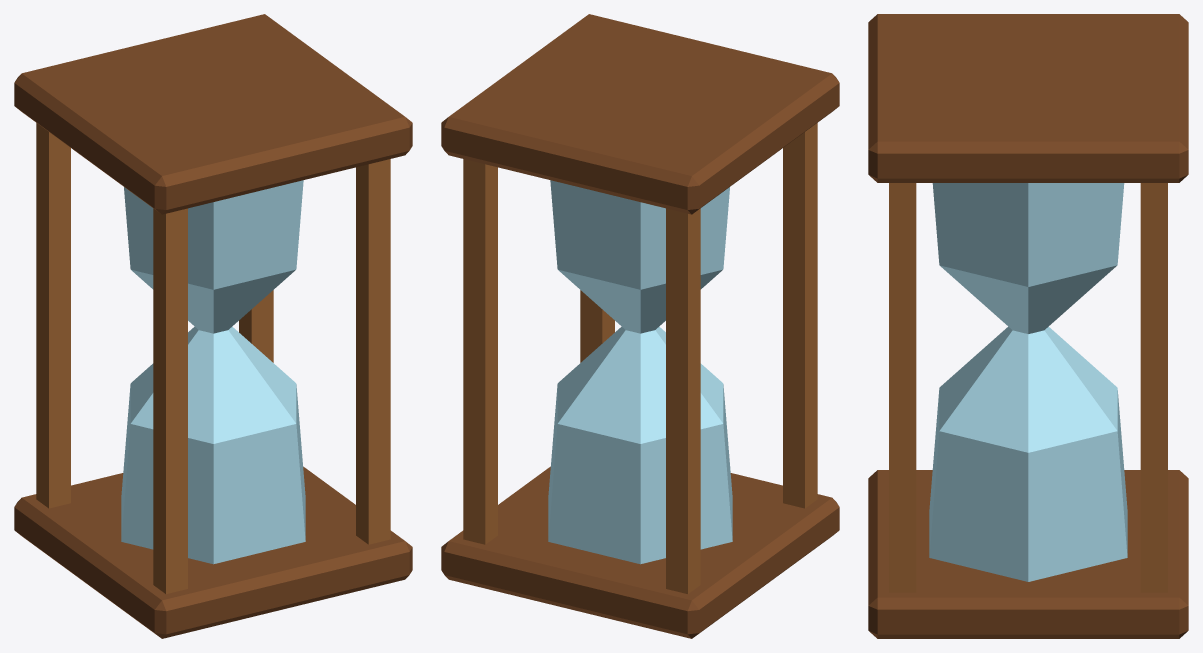
The model's file is Hourglass.fbx.
3 renders of one model, left to right at view 1: azimuth 30°, elevation 25°; view 2: azimuth 150°, elevation 25°; view 3: azimuth 270°, elevation 25°, orthographic. The views are drawn at different scales.
Visible parts, largest first — view 1: Hourglass; view 2: Hourglass; view 3: Hourglass.
Boxes of the visible parts, left/top/right/bottom form: Hourglass: left=14, top=14, right=412, bottom=638; Hourglass: left=441, top=14, right=839, bottom=638; Hourglass: left=868, top=14, right=1188, bottom=638.
Size of the model in its own units: 1.4 by 2.4 by 1.4.
Materials: 1 (1 with a texture image).
